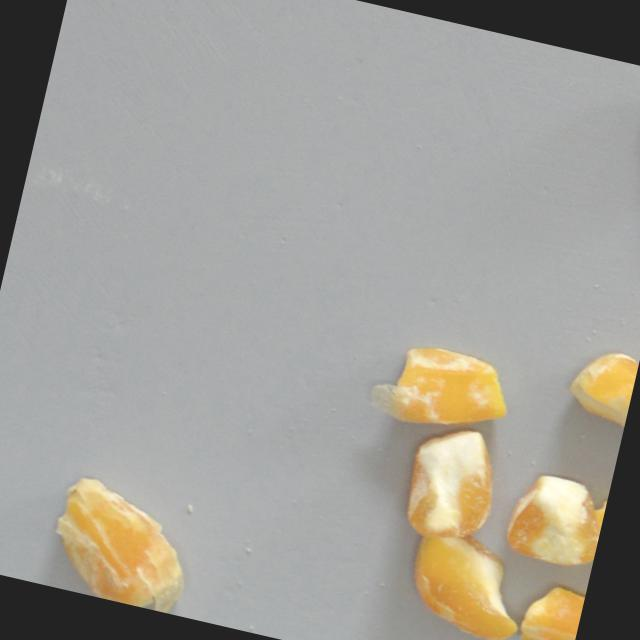dañado: (36, 469, 208, 617), (360, 330, 524, 447), (397, 518, 540, 640), (393, 415, 512, 550), (498, 464, 610, 576), (556, 338, 640, 433), (512, 574, 587, 640), (576, 489, 609, 578)
